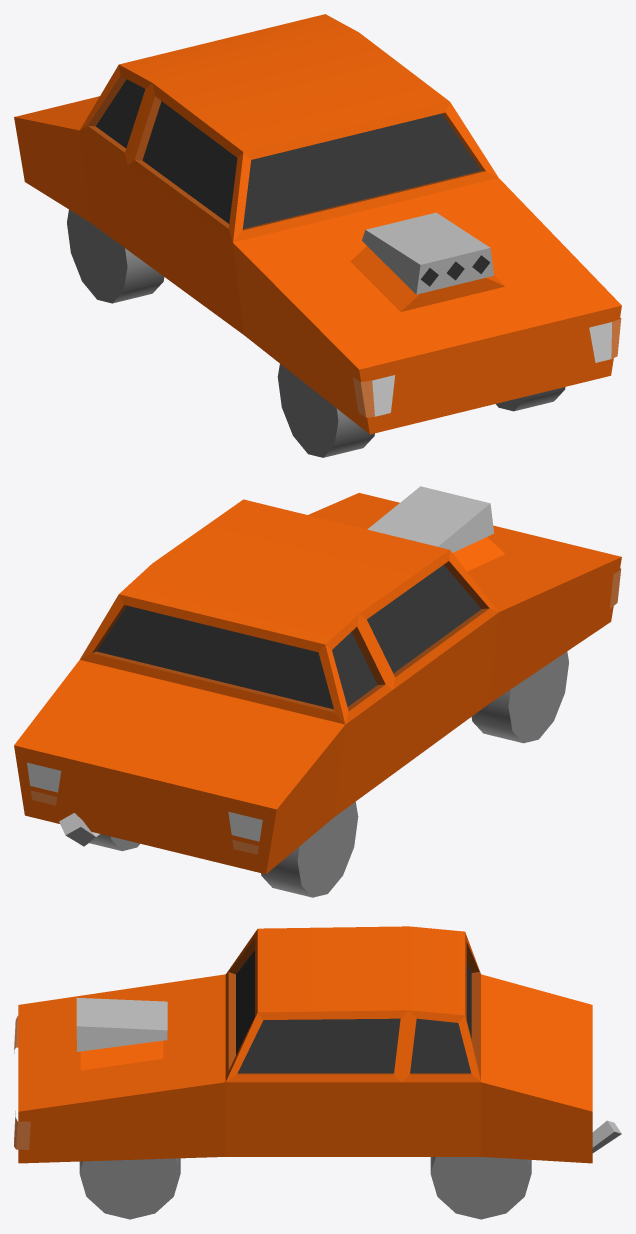
File: musclecar_01.fbx
3 renders of one model, top to bottom at view 1: azimuth 30°, elevation 25°; view 2: azimuth 150°, elevation 25°; view 3: azimuth 270°, elevation 25°, orthographic. The views are drawn at different scales.
Parts seen in each view (by area): view 1: musclecar_01; view 2: musclecar_01; view 3: musclecar_01.
Boxes of the visible parts, x1,y1,x2,y2 form: musclecar_01: (14,14,621,457); musclecar_01: (14,486,621,897); musclecar_01: (14,926,621,1219).
Size of the model in its own units: 1.6 by 1.41 by 3.81.
